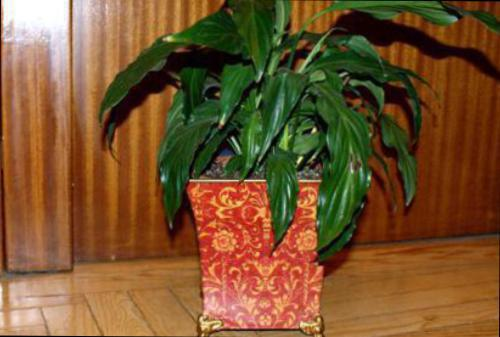Matera: (70, 0, 500, 337)
